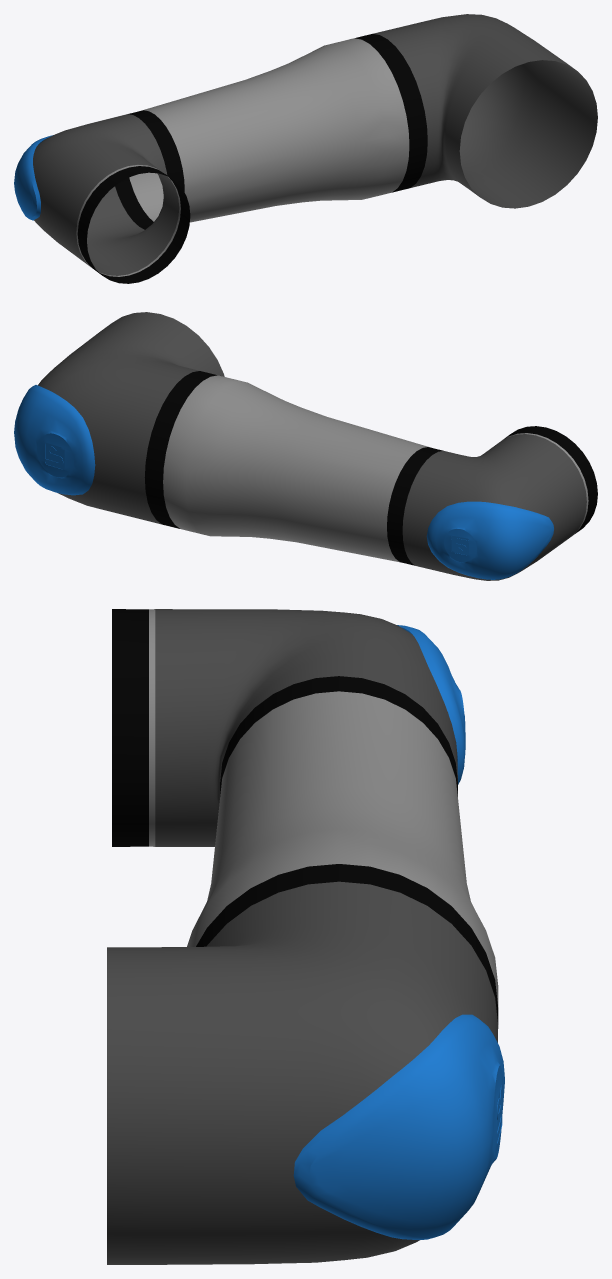
The model's file is forearm.dae.
The picture shows the model from 3 angles, top to bottom: view 1: azimuth 30°, elevation 25°; view 2: azimuth 150°, elevation 25°; view 3: azimuth 270°, elevation 25°; orthographic projection. The views are drawn at different scales.
Visible parts, largest first — view 1: elbow, elbow-1_pad_logo.001; view 2: elbow, elbow-1_pad_logo.001, elbow_pad_Logo_002.001; view 3: elbow, elbow_pad_Logo_002.001, elbow-1_pad_logo.001.
Boxes of the visible parts, x1,y1,x2,y2 form: elbow: (33, 14, 597, 283); elbow-1_pad_logo.001: (14, 135, 53, 220); elbow: (38, 312, 597, 580); elbow-1_pad_logo.001: (426, 501, 553, 579); elbow_pad_Logo_002.001: (14, 385, 95, 495); elbow: (107, 609, 498, 1264); elbow_pad_Logo_002.001: (293, 1014, 504, 1240); elbow-1_pad_logo.001: (397, 625, 465, 784).
Bounding box in the file's own units: 0.4498 × 0.1509 × 0.1205.
